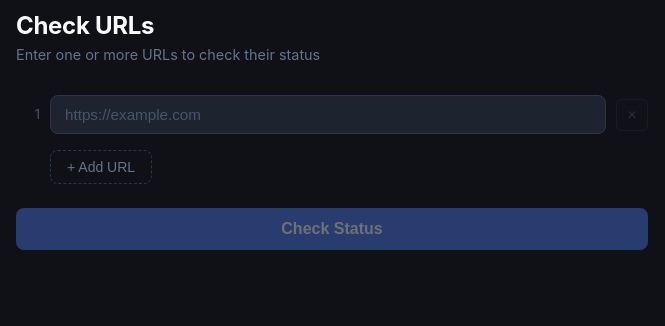
it: Home Page › shows error message if server returns an error
Type "google.com" into the field with placeholder "https://example.com".
click(328, 114); type("google.com")  # box 50,95 -> 606,134
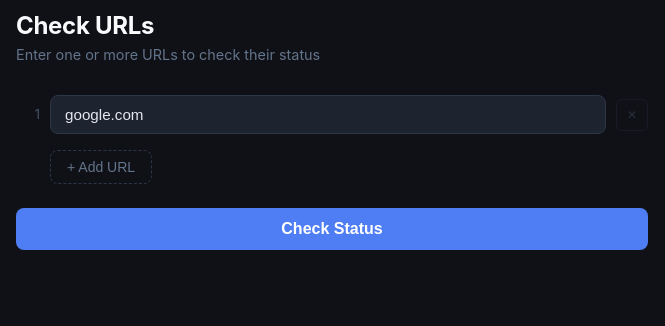
Click the button "Check Status".
click(332, 229)  # box 16,208 -> 648,250
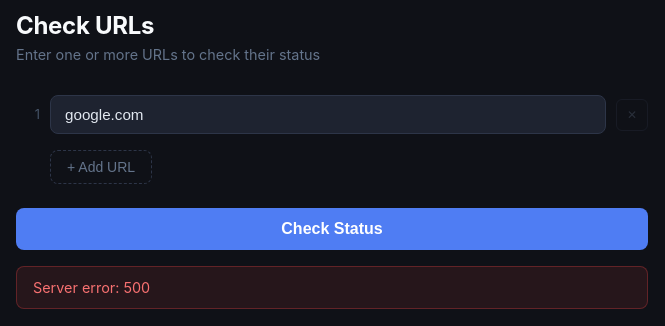
Result: the text "Server error: 500" is shown at 16,266 -> 648,309
